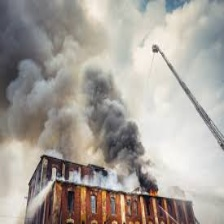smoke: (1, 2, 158, 168)
